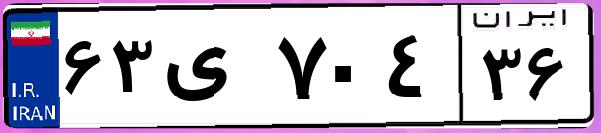0: (330, 28, 385, 110)
3: (475, 38, 525, 113), (110, 28, 158, 98)
4: (385, 28, 445, 110)
6: (57, 26, 110, 100), (525, 38, 570, 115)
7: (270, 28, 330, 110)
ی: (158, 20, 270, 120)
